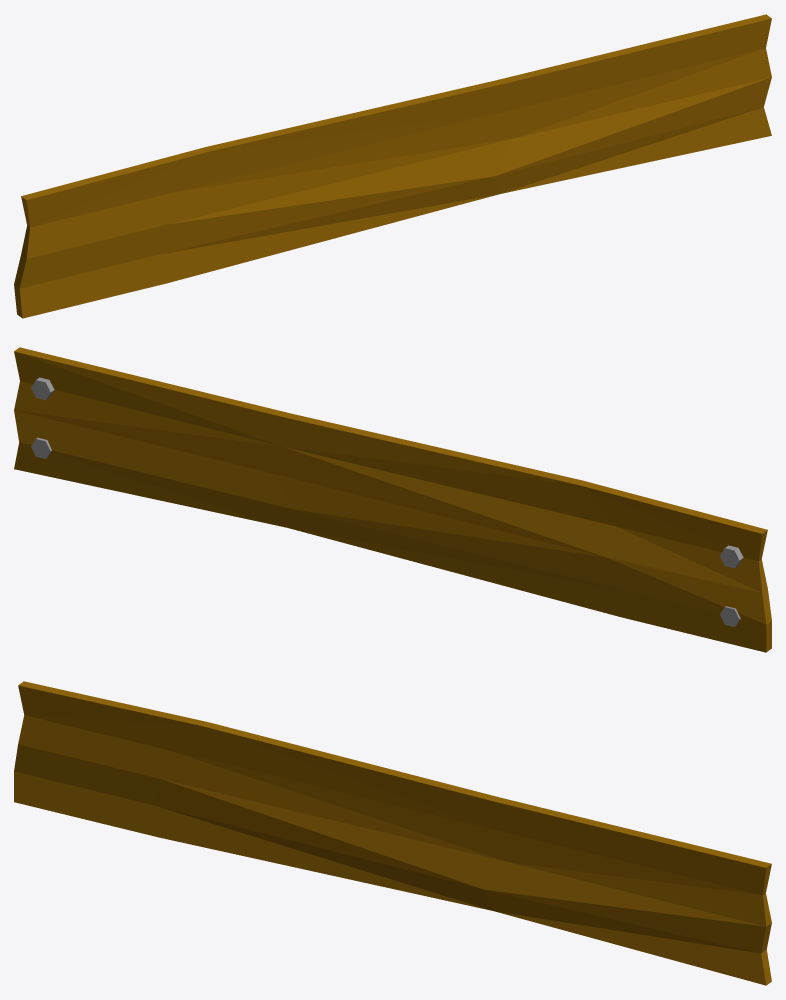
File: Plank02_Nailed.fbx
3 renders of one model, top to bottom at view 1: azimuth 30°, elevation 25°; view 2: azimuth 150°, elevation 25°; view 3: azimuth 330°, elevation 25°, orthographic.
Visible parts, largest first — view 1: Plank_Nails2; view 2: Plank_Nails2; view 3: Plank_Nails2.
Boxes of the visible parts, x1,y1,x2,y2 form: Plank_Nails2: (14, 14, 771, 318); Plank_Nails2: (14, 347, 771, 652); Plank_Nails2: (14, 681, 771, 985).
Bounding box in the file's own units: 76.61 × 11.84 × 1.89.
1 material, 1 textured.
